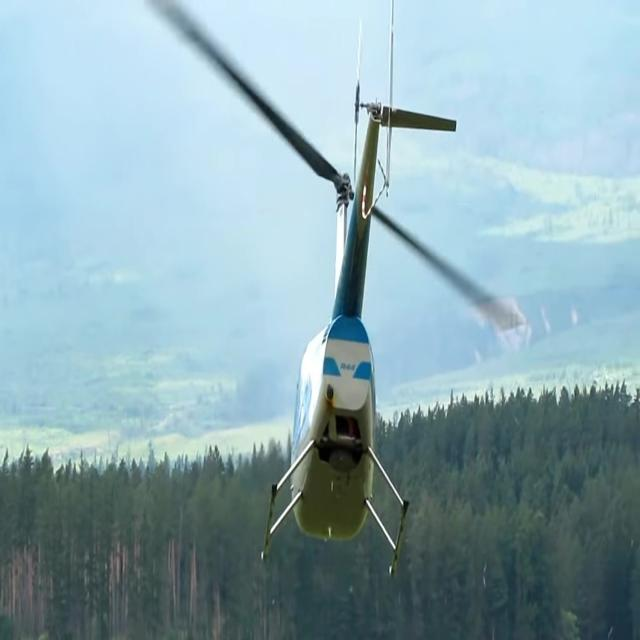CIV_HELO: (261, 99, 458, 582)
